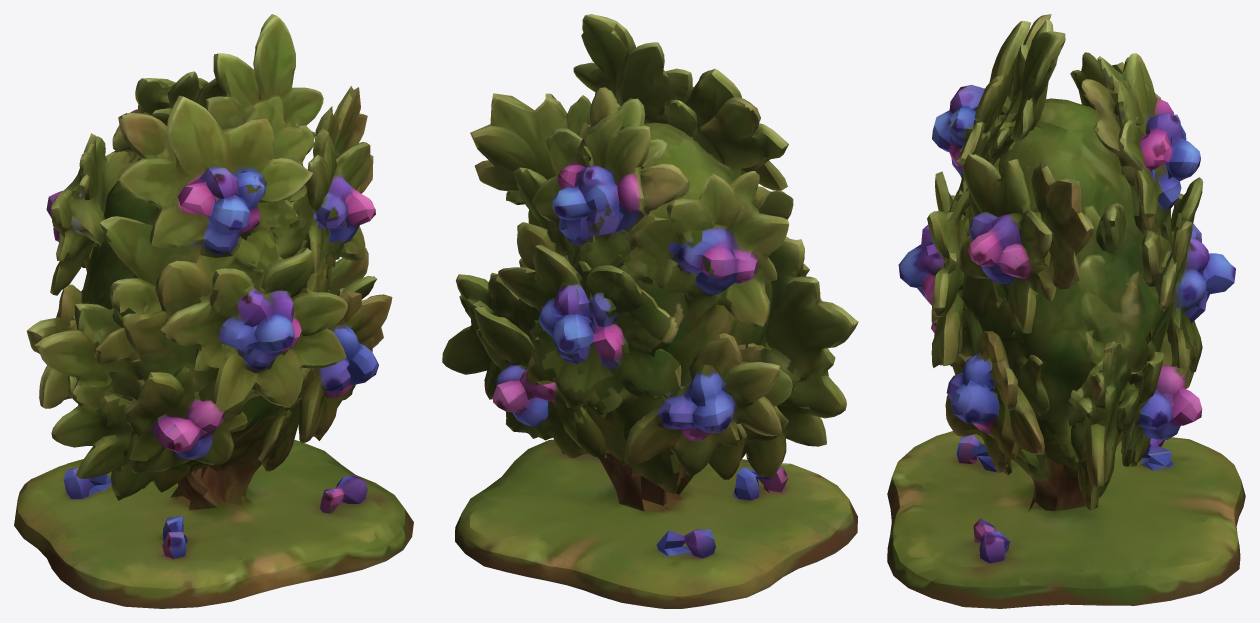
File: harvest_berry.glb
3 renders of one model, left to right at view 1: azimuth 30°, elevation 25°; view 2: azimuth 150°, elevation 25°; view 3: azimuth 270°, elevation 25°, orthographic. The views are drawn at different scales.
Parts seen in each view (by area): view 1: Mesh_0; view 2: Mesh_0; view 3: Mesh_0.
Part boxes in pixels (x1=…): Mesh_0: x1=14, y1=14, x2=413, y2=608; Mesh_0: x1=442, y1=14, x2=858, y2=608; Mesh_0: x1=887, y1=14, x2=1245, y2=608.
Bounding box in the file's own units: 1.52 × 1.9 × 1.17.
Materials: 1 (1 with a texture image).
